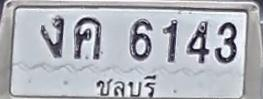1: (162, 19, 177, 62)
3: (215, 21, 237, 63)
4: (186, 20, 209, 64)
6: (130, 18, 152, 61)
A04: (74, 16, 102, 60)
A07: (40, 15, 64, 58)
CBI: (93, 67, 161, 99)
